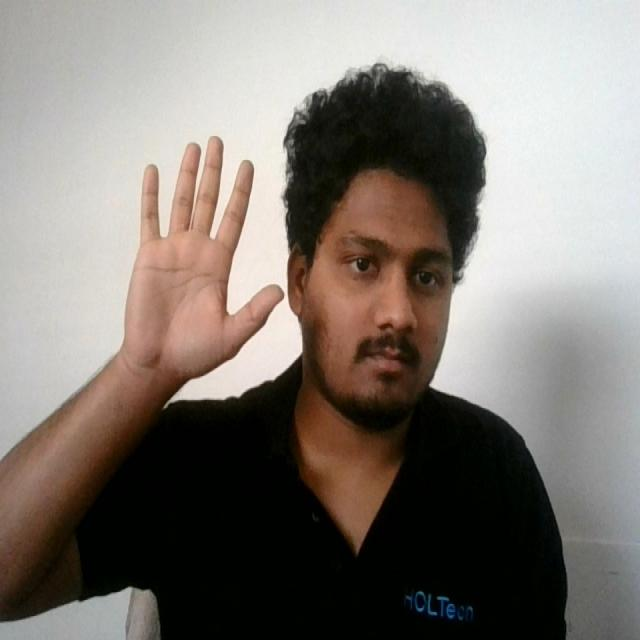Hello: (114, 128, 287, 396)
